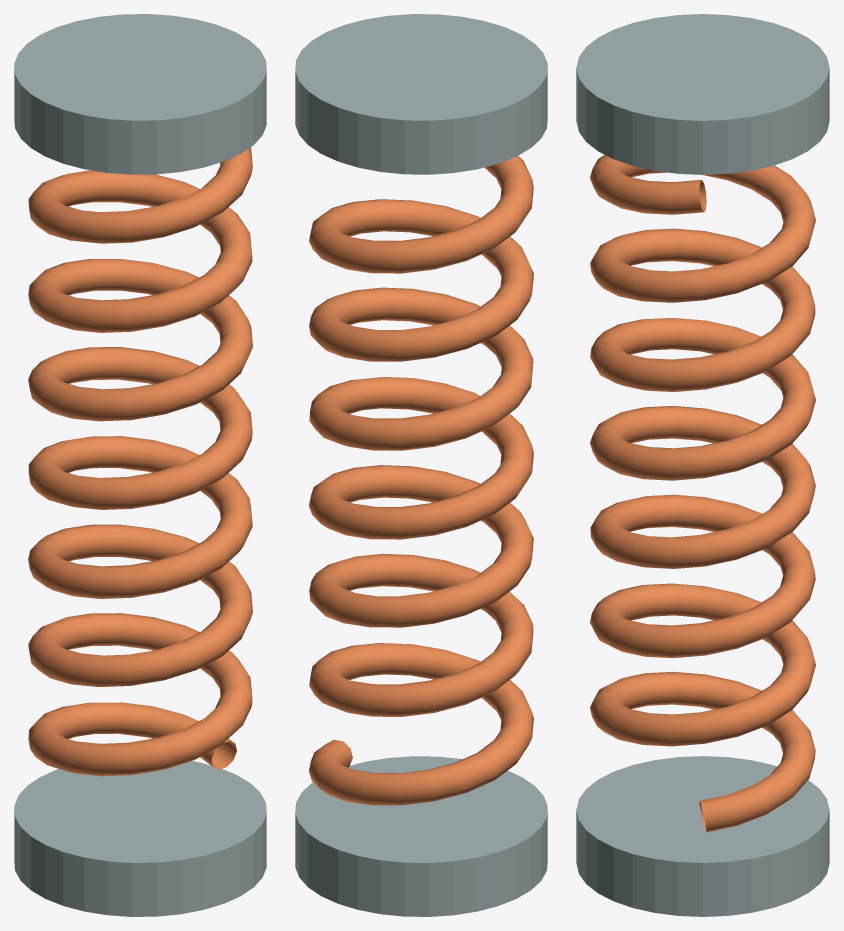
Rendered from spring.glb.
3 views of the same model, side by side, from view 1: azimuth 30°, elevation 25°; view 2: azimuth 150°, elevation 25°; view 3: azimuth 270°, elevation 25° (orthographic).
Parts seen in each view (by area): view 1: Spring_Coil, Spring_Cap_Top, Spring_Cap_Bottom; view 2: Spring_Coil, Spring_Cap_Top, Spring_Cap_Bottom; view 3: Spring_Coil, Spring_Cap_Top, Spring_Cap_Bottom.
Part boxes in pixels (x1=…): Spring_Coil: x1=28, y1=147, x2=252, y2=776; Spring_Cap_Top: x1=14, y1=14, x2=266, y2=174; Spring_Cap_Bottom: x1=14, y1=761, x2=266, y2=916; Spring_Coil: x1=309, y1=156, x2=533, y2=805; Spring_Cap_Top: x1=295, y1=14, x2=547, y2=174; Spring_Cap_Bottom: x1=295, y1=756, x2=547, y2=916; Spring_Coil: x1=590, y1=154, x2=815, y2=832; Spring_Cap_Top: x1=576, y1=14, x2=829, y2=174; Spring_Cap_Bottom: x1=576, y1=756, x2=829, y2=916.
Size of the model in its own units: 0.34 by 1.18 by 0.34.
